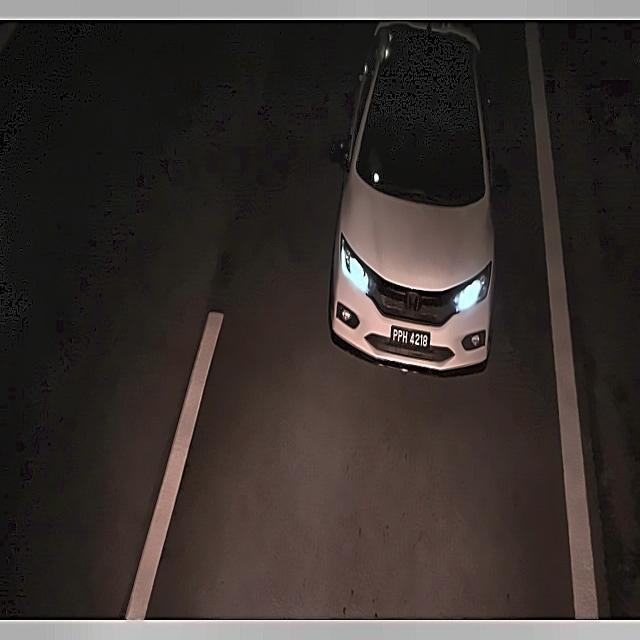car: (389, 322, 433, 361)
